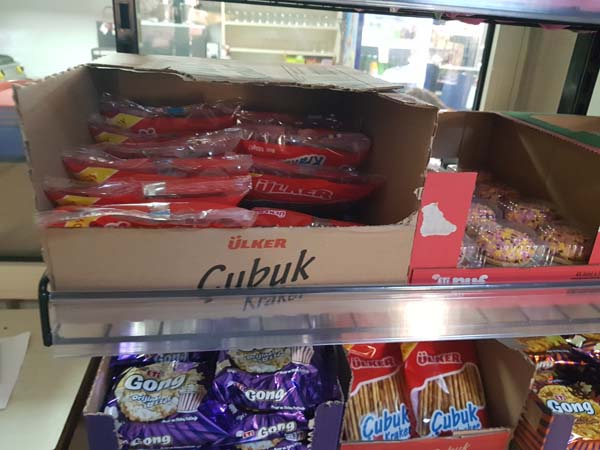eticubuk: (401, 343, 487, 435), (336, 341, 409, 444)
etigong: (113, 360, 207, 417)
